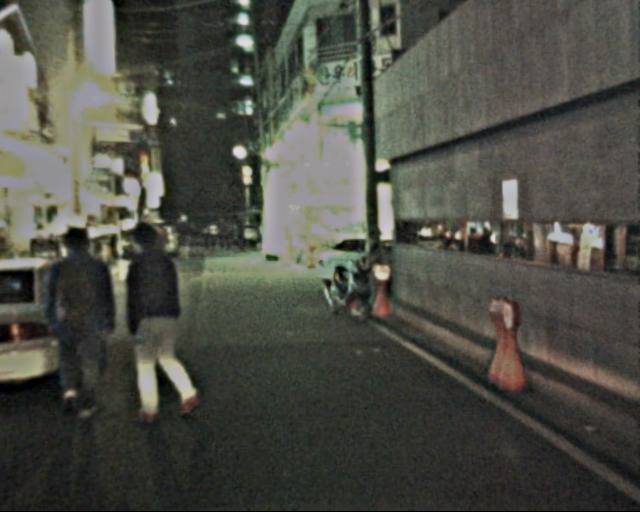person: (37, 219, 129, 422), (112, 221, 200, 421), (200, 221, 248, 253), (174, 212, 194, 261)
